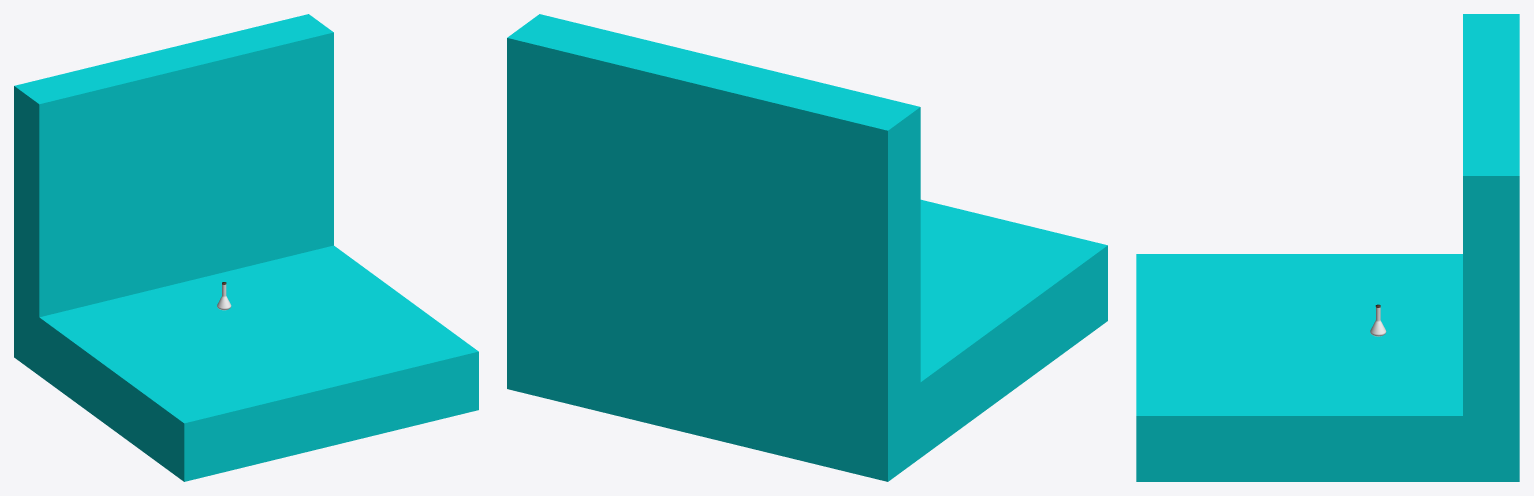
File: Fiole de potion.glb
The picture shows the model from 3 angles, left to right: view 1: azimuth 30°, elevation 25°; view 2: azimuth 150°, elevation 25°; view 3: azimuth 270°, elevation 25°; orthographic projection. The views are drawn at different scales.
Visible parts, largest first — view 1: Plane; view 2: Plane; view 3: Plane.
Boxes of the visible parts, x1,y1,x2,y2 form: Plane: (14,14,478,481); Plane: (507,14,1107,481); Plane: (1136,14,1519,481).
Size of the model in its own units: 62.47 by 55.04 by 62.47.
